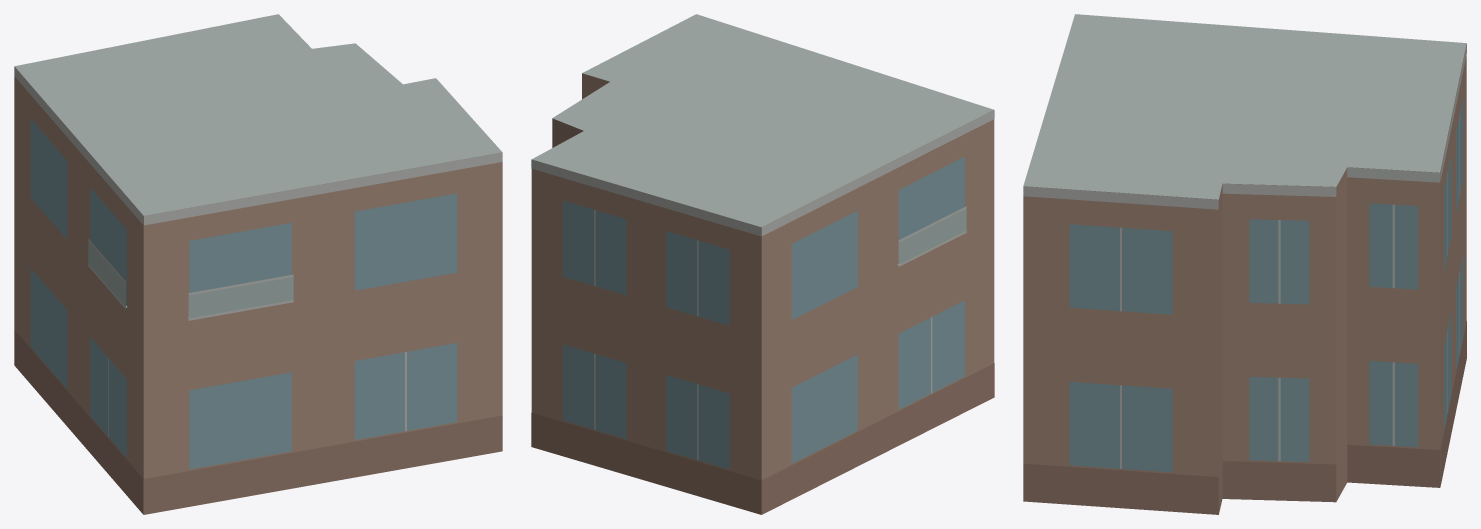
File: survey-upis-32954187.glb
3 views of the same model, side by side, from view 1: azimuth 30°, elevation 25°; view 2: azimuth 150°, elevation 25°; view 3: azimuth 270°, elevation 25° (orthographic). The views are drawn at different scales.
Visible parts, largest first — view 1: survey-upis-32954187.tmp; view 2: survey-upis-32954187.tmp; view 3: survey-upis-32954187.tmp.
Boxes of the visible parts, x1,y1,x2,y2 form: survey-upis-32954187.tmp: (14, 14, 502, 514); survey-upis-32954187.tmp: (531, 14, 994, 514); survey-upis-32954187.tmp: (1023, 14, 1466, 514).
Bounding box in the file's own units: 9.6 × 7.6 × 9.7.
